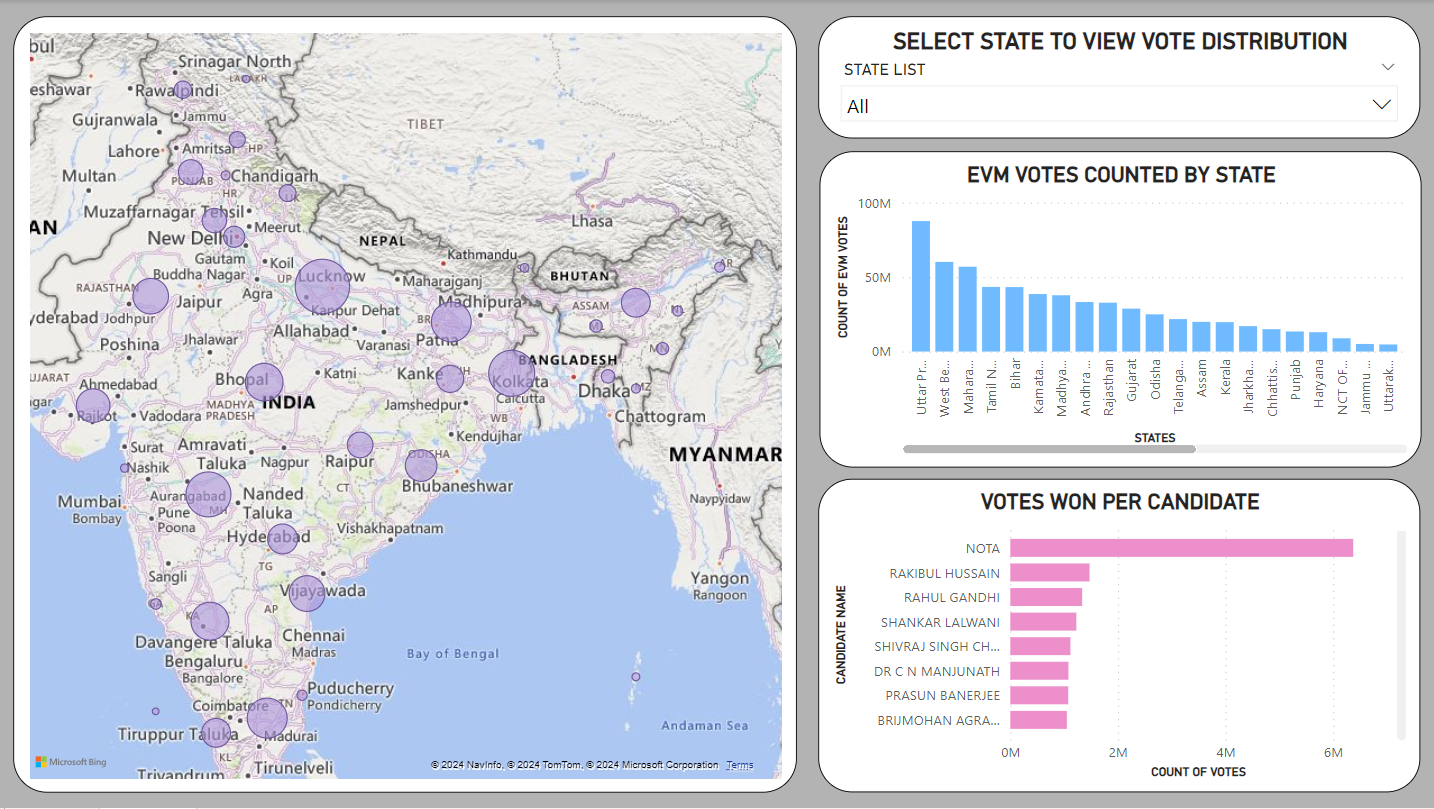

Layout of this report page (visuals, bound fields, positions):
{"tool":"powerbi","page":{"name":"Page 2","canvas":[1280,720],"ordinal":1},"visuals":[{"type":"columnChart","title":"EVM VOTES COUNTED BY STATE","fields":{"Y":["Final Result.EVM Votes"],"Category":["Final Result.State"]},"box":[732.5,134.9,536.1,281.9],"z":0},{"type":"clusteredBarChart","title":"VOTES WON PER CANDIDATE","fields":{"Category":["Final Result.Candidate"],"Y":["Final Result.Total Votes"]},"box":[731.3,426.5,536.1,279.5],"z":1},{"type":"map","fields":{"Category":["Final Result.State"],"Size":["Final Result.Total Votes"]},"box":[14.5,14.5,697.6,691.6],"z":2},{"type":"slicer","title":"SELECT STATE TO VIEW VOTE DISTRIBUTION","fields":{"Values":["Final Result.State"]},"box":[731.3,14.5,536.1,108.4],"z":3}]}

Visuals, with their boxes in screenshot pixels (x1, y1, x2, y2), scaled from the page's 1280x720 canvas onto the 1434x809 screenshot:
"EVM VOTES COUNTED BY STATE" columnChart: Rect(821, 152, 1421, 468)
"VOTES WON PER CANDIDATE" clusteredBarChart: Rect(819, 479, 1420, 793)
map - Final Result.State x Final Result.Total Votes: Rect(16, 16, 798, 793)
"SELECT STATE TO VIEW VOTE DISTRIBUTION" slicer: Rect(819, 16, 1420, 138)
